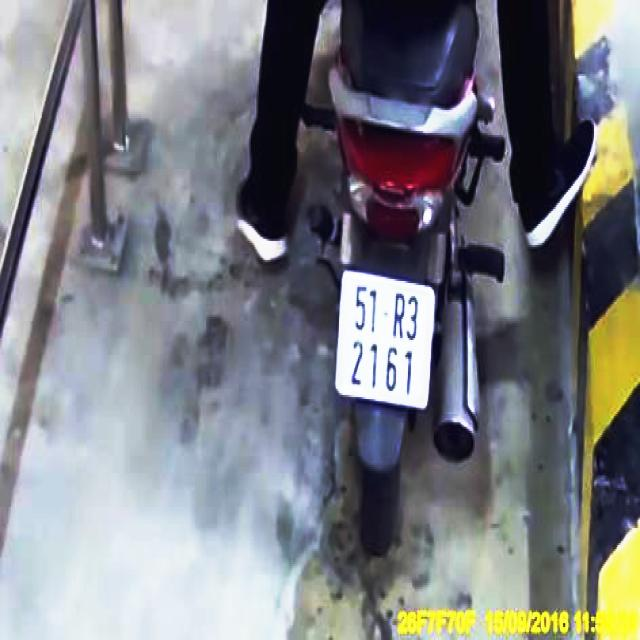license_plate: (338, 270, 435, 411)
